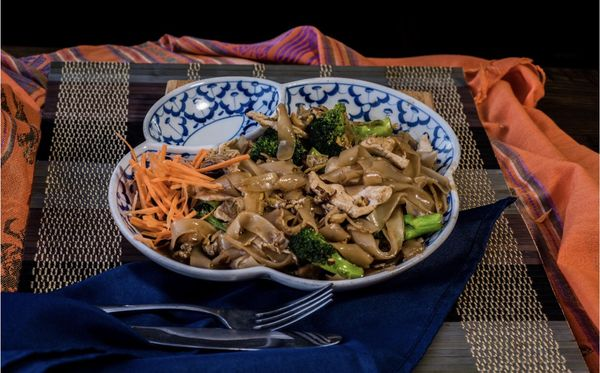curry: (308, 101, 393, 154), (289, 227, 363, 280), (306, 102, 349, 156), (403, 211, 445, 241), (248, 129, 279, 161)
sushi: (107, 70, 474, 321)
